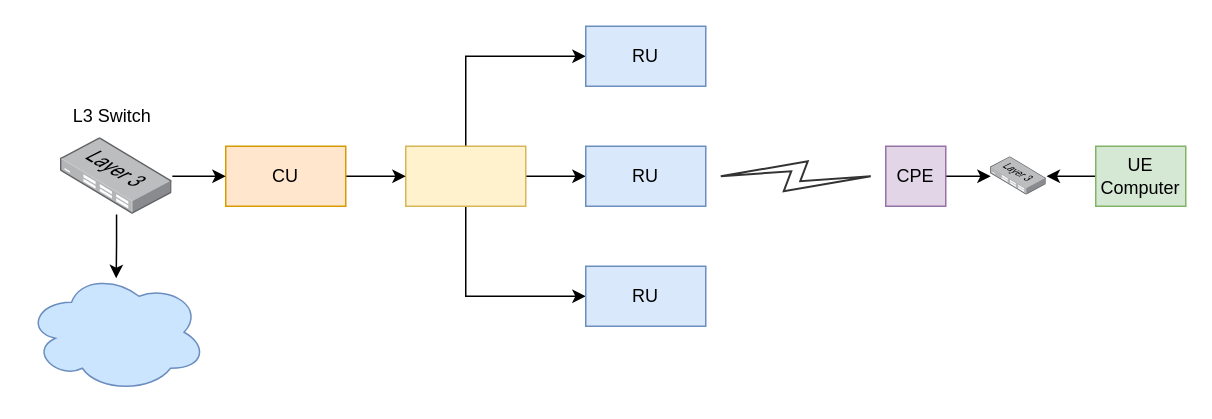
The diagram is 1212 pixels wide and 419 high, and some of its shapes have lost their labels. The shapes that lost their labels are listed below. From the top down, each one's box as (x1, y1, x2, y2) in pixels, then its label:
(404, 145, 526, 206): DU
(990, 156, 1046, 195): UE Switch
(25, 271, 207, 392): ARA Network
